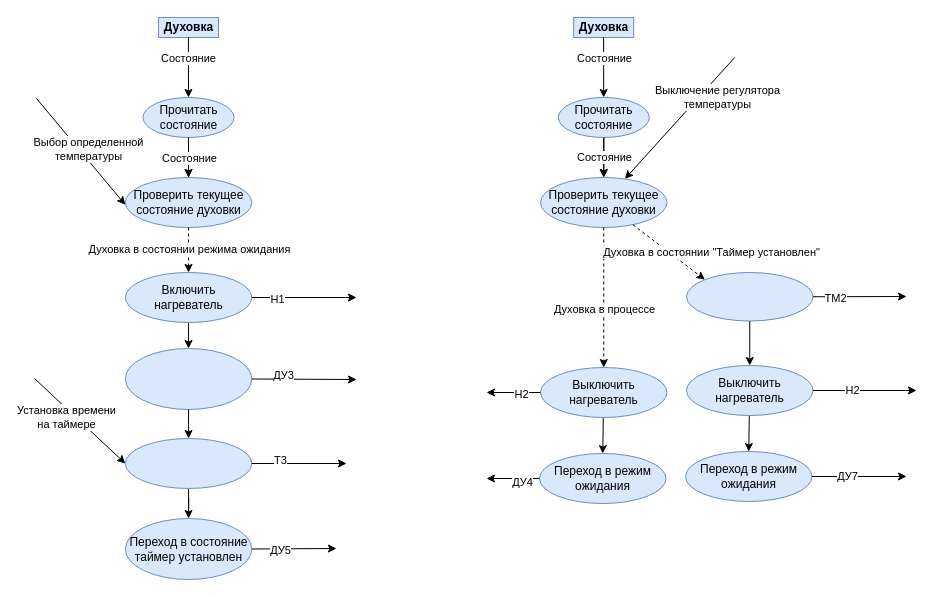
This 942x597 diagram has some shape labels left out. The shapes that lost their labels are listed below. From the top down, each one's centre as x and y in pixels, then its label:
At [749,296]: "Сбросить таймер".
At [188,379]: "Переход в состояние процесса приготовления".
At [188,463]: "Запустить таймер".
